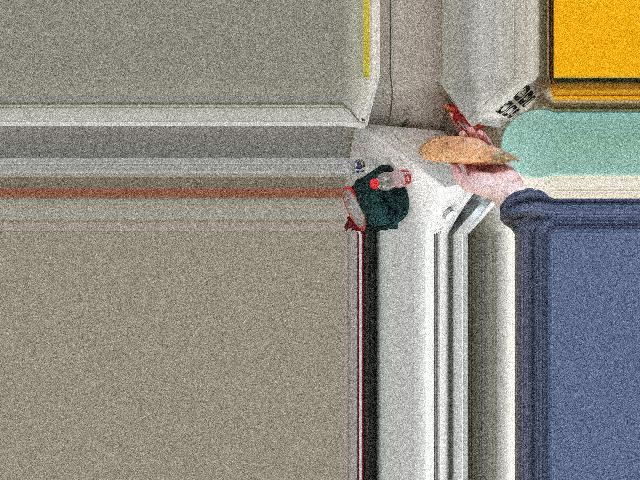sweet_potato: (427, 141, 513, 167)
